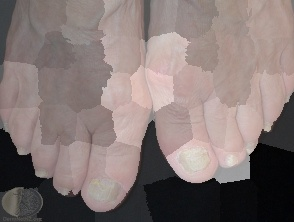Nail_psoriasis: (82, 172, 125, 210), (175, 145, 214, 177), (54, 183, 77, 198), (222, 154, 241, 170), (34, 164, 49, 181), (247, 140, 262, 156), (261, 120, 274, 134), (16, 143, 29, 155), (3, 122, 10, 133)
